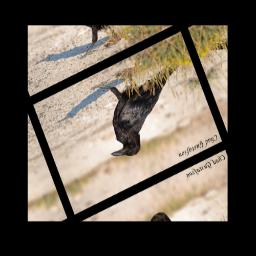Crow: (86, 45, 204, 166)
